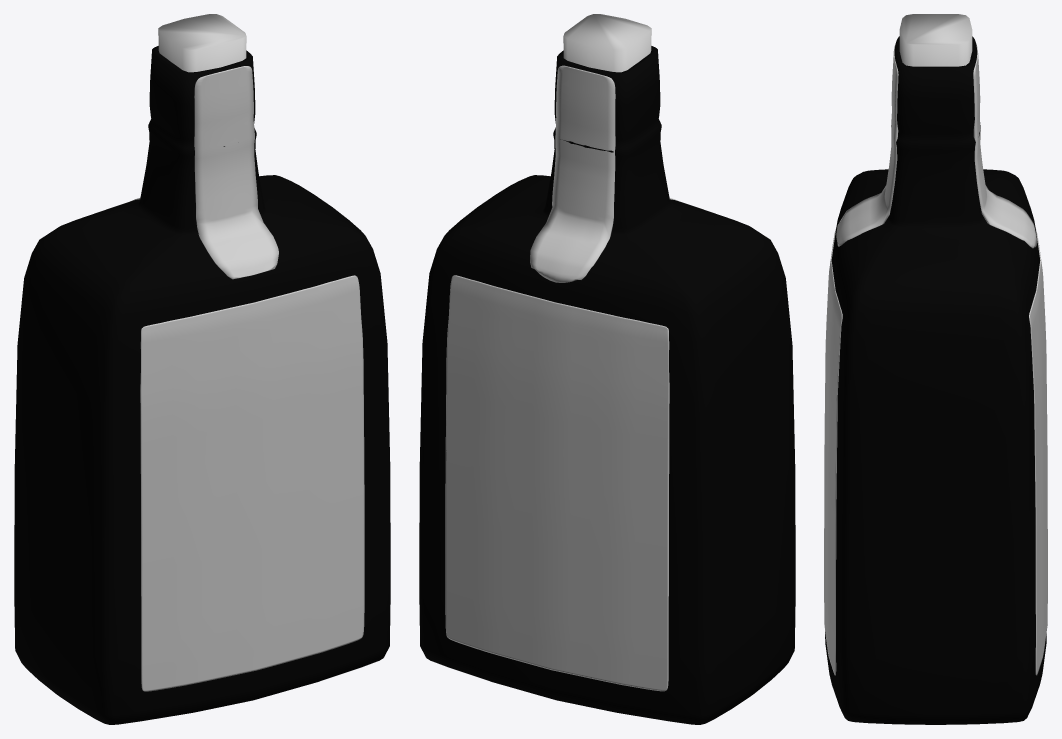
File: BottleA_mdl.fbx
3 views of the same model, side by side, from view 1: azimuth 30°, elevation 25°; view 2: azimuth 150°, elevation 25°; view 3: azimuth 270°, elevation 25° (orthographic).
Parts seen in each view (by area): view 1: BottleA.001; view 2: BottleA.001; view 3: BottleA.001.
Part boxes in pixels (x1,y1,x2,y2): BottleA.001: [14, 14, 390, 724]; BottleA.001: [419, 14, 795, 724]; BottleA.001: [824, 14, 1047, 724].
Bounding box in the file's own units: 10.57 × 21.52 × 6.9.
